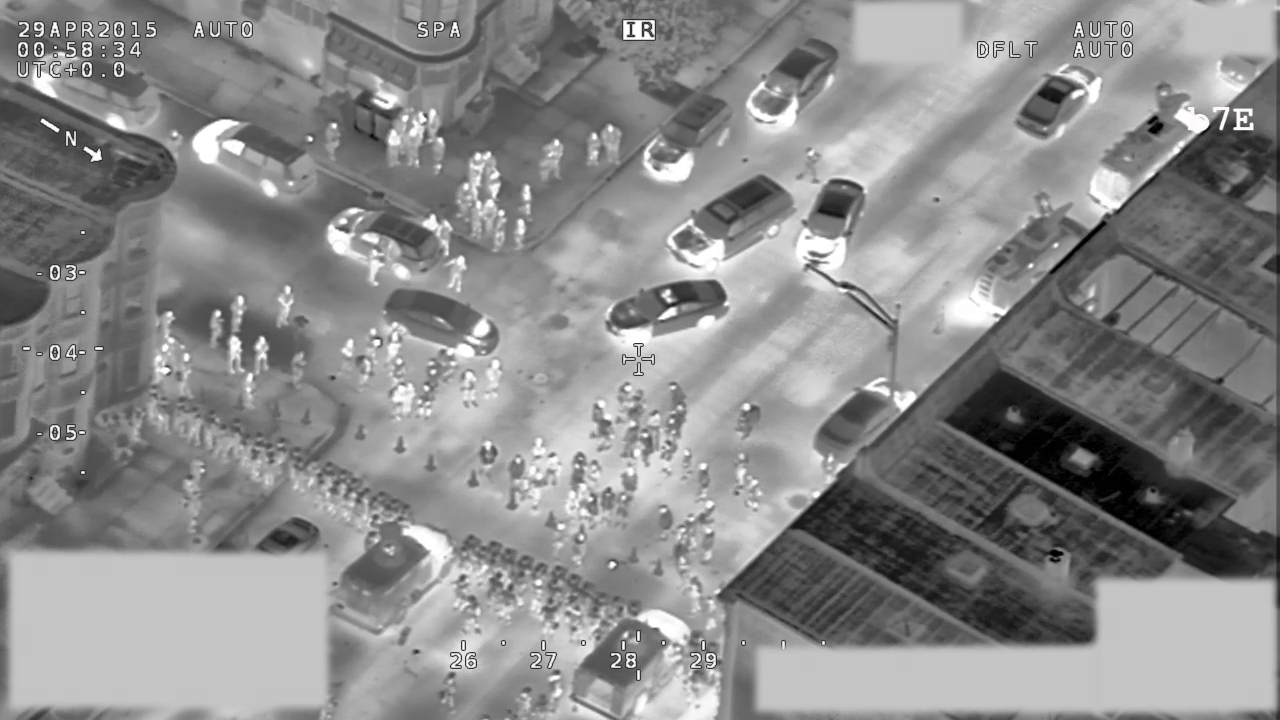vehicle: (1080, 81, 1210, 219), (968, 190, 1088, 329), (334, 518, 457, 639), (575, 607, 693, 719), (666, 171, 799, 270), (186, 114, 323, 203), (30, 48, 163, 136), (809, 376, 919, 474), (323, 204, 452, 283), (738, 38, 843, 131), (602, 276, 732, 347), (639, 94, 735, 188), (378, 288, 501, 358), (1011, 62, 1104, 143), (797, 177, 868, 280)
